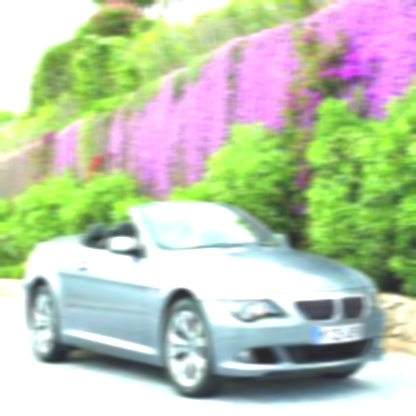Vehicle: (22, 203, 390, 402)
